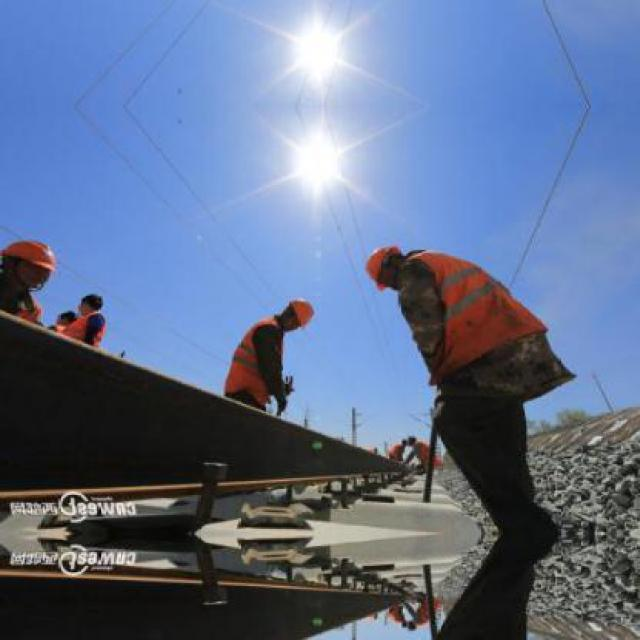Reflective-Jacket: (394, 242, 557, 390), (218, 312, 302, 407), (0, 276, 46, 327), (56, 310, 112, 350)
Safety-Helmet: (0, 230, 66, 279), (357, 238, 411, 293), (72, 286, 108, 312)
